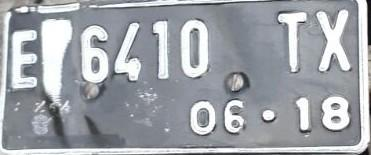clone-license-plate: (3, 1, 370, 150)
